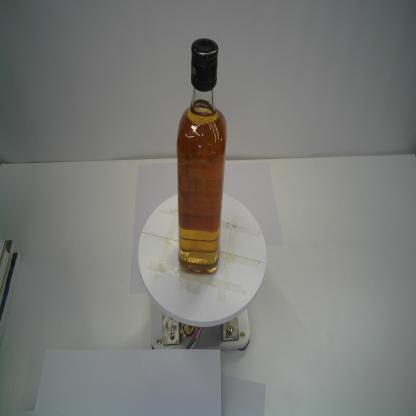Seasoner: (175, 36, 228, 278)
